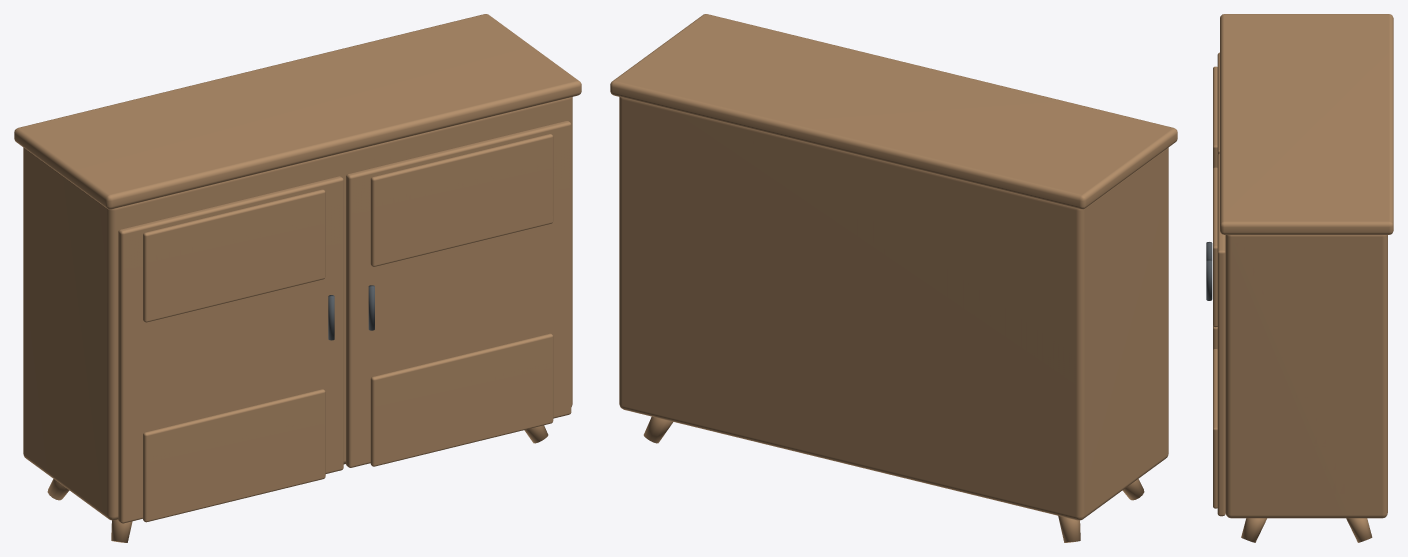
The model's file is atelier-bar-station.glb.
3 views of the same model, side by side, from view 1: azimuth 30°, elevation 25°; view 2: azimuth 150°, elevation 25°; view 3: azimuth 270°, elevation 25° (orthographic). The views are drawn at different scales.
Visible parts, largest first — view 1: legs.241; view 2: legs.241; view 3: legs.241, metal.207.
Part boxes in pixels (box(x1,y1,x2,y2)): legs.241: box(14, 14, 581, 542); legs.241: box(610, 14, 1177, 542); legs.241: box(1213, 14, 1393, 542); metal.207: box(1206, 242, 1212, 300).
Size of the model in its own units: 1.54 by 1.13 by 0.5765.
